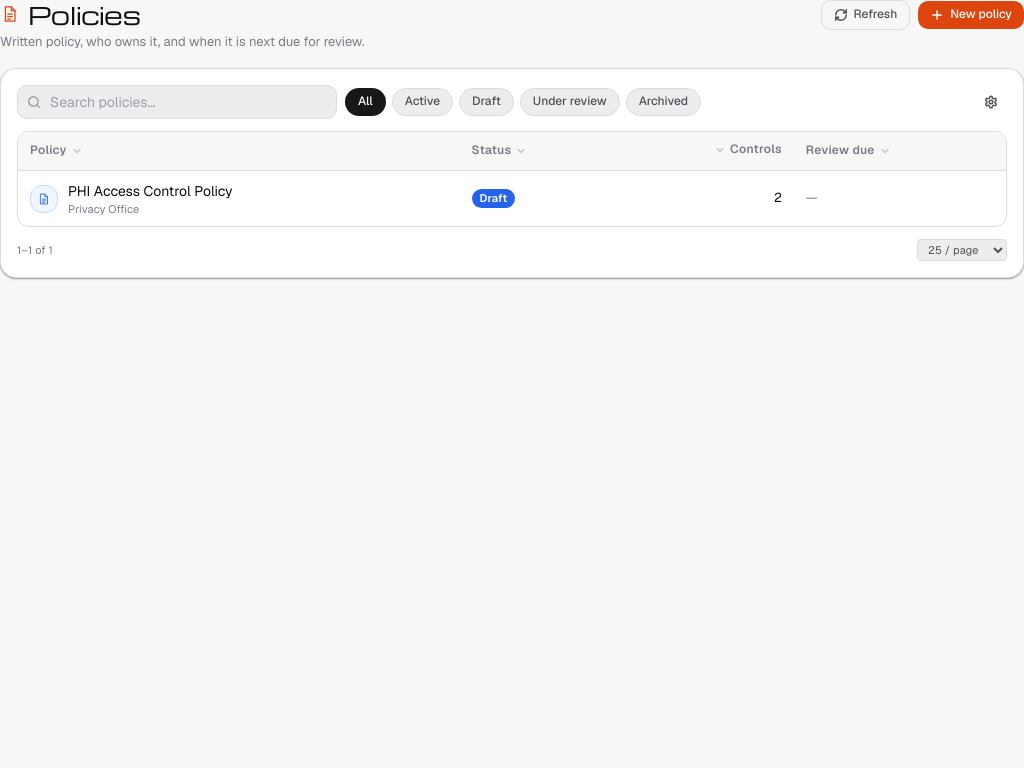
Test: detail drawers render the detail payload, not the list row › lists the controls a policy cites, by name
This screenshot has width=1024, height=768.
Click the text "PHI Access Control Policy" at x=150, y=191, box x1=68 y1=181 x2=233 y2=202
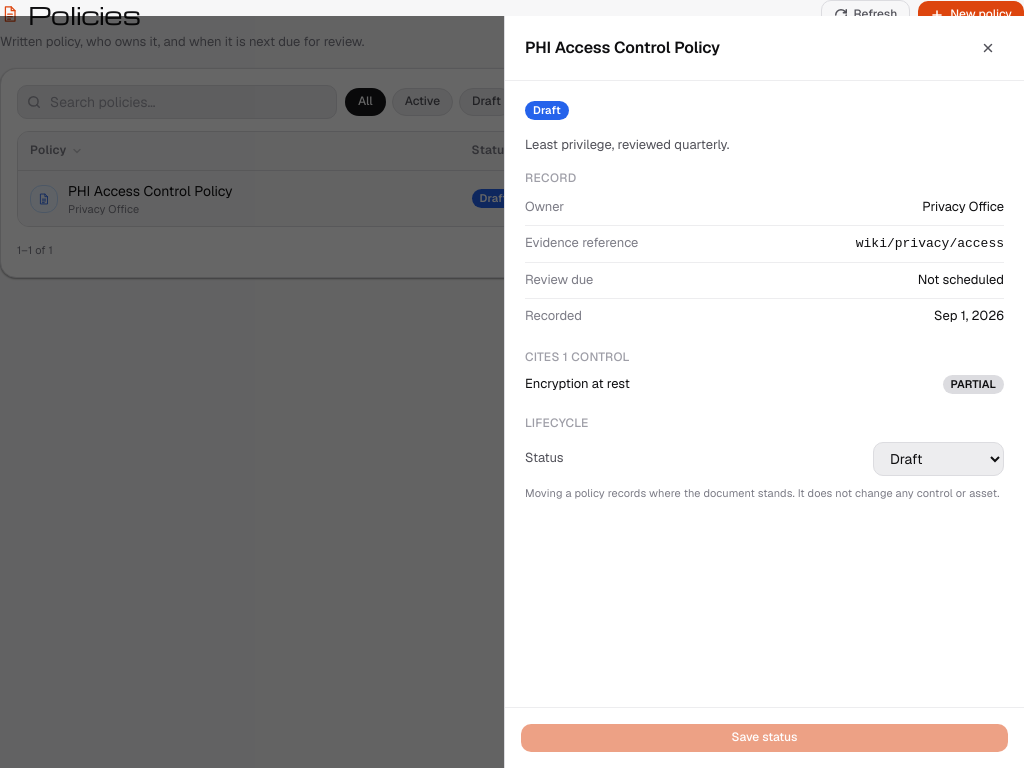
Check: the text "Encryption at rest" is shown, box x1=525 y1=375 x2=630 y2=394
Check: the text "Cites 1 control" is shown, box x1=525 y1=349 x2=630 y2=365
